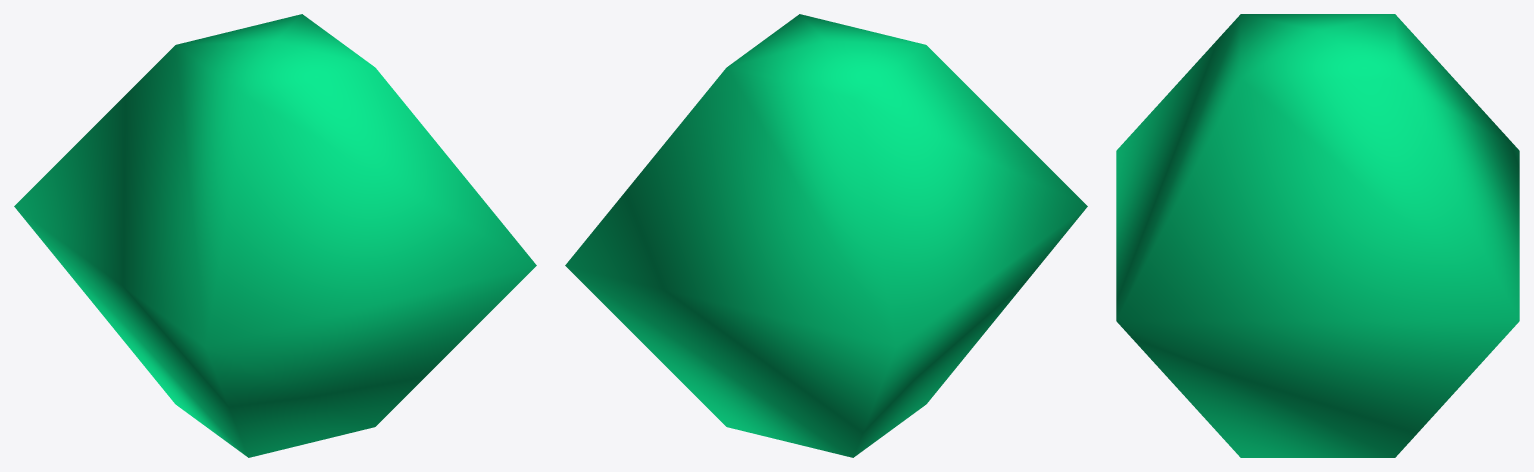
File: V_Flower_Pistil_02.fbx
3 renders of one model, left to right at view 1: azimuth 30°, elevation 25°; view 2: azimuth 150°, elevation 25°; view 3: azimuth 270°, elevation 25°, orthographic. The views are drawn at different scales.
Parts seen in each view (by area): view 1: V_Flower_Pistil_02; view 2: V_Flower_Pistil_02; view 3: V_Flower_Pistil_02.
Part boxes in pixels (bbox=[...]): V_Flower_Pistil_02: bbox=[14, 14, 536, 457]; V_Flower_Pistil_02: bbox=[565, 14, 1087, 457]; V_Flower_Pistil_02: bbox=[1116, 14, 1519, 457].
Size of the model in its own units: 4.82 by 5.4 by 4.82.
